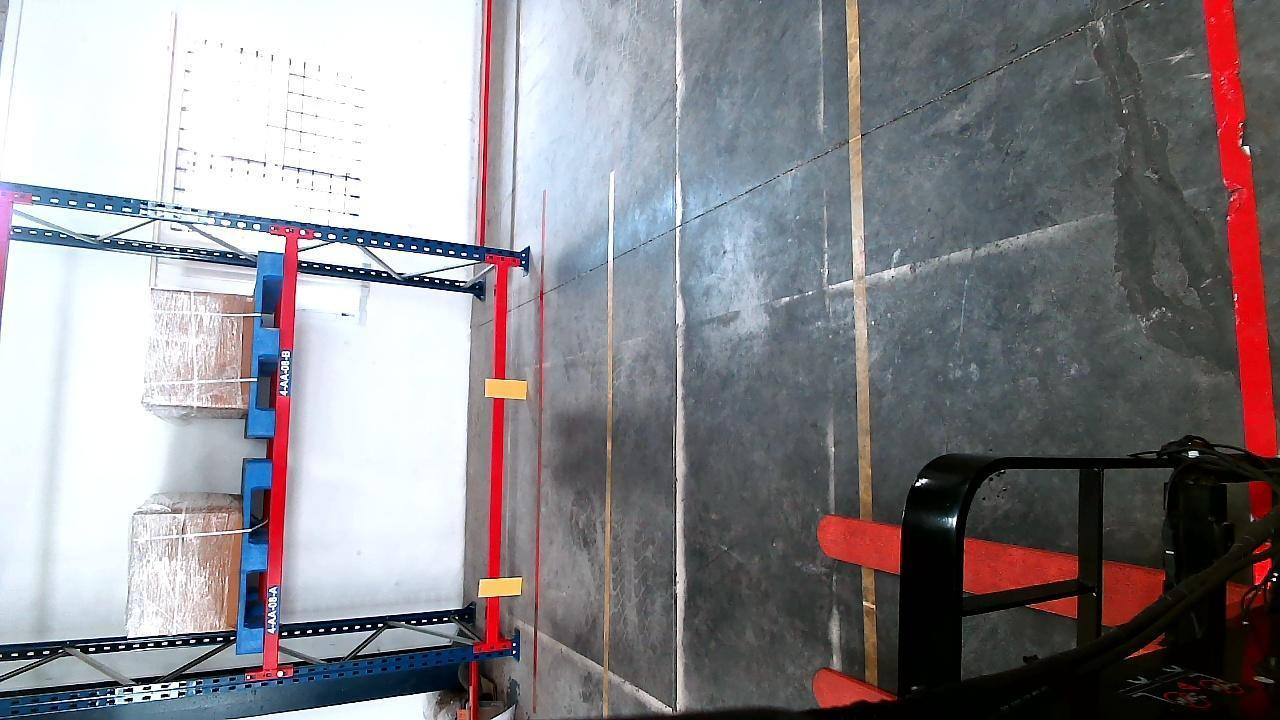h_rack: (262, 235, 298, 672), (488, 265, 508, 655)
orange_strip: (481, 574, 525, 598), (489, 377, 532, 400)
small_pallet: (250, 255, 284, 445), (238, 481, 274, 649)
yellow_line: (841, 0, 879, 688), (597, 177, 617, 720)
